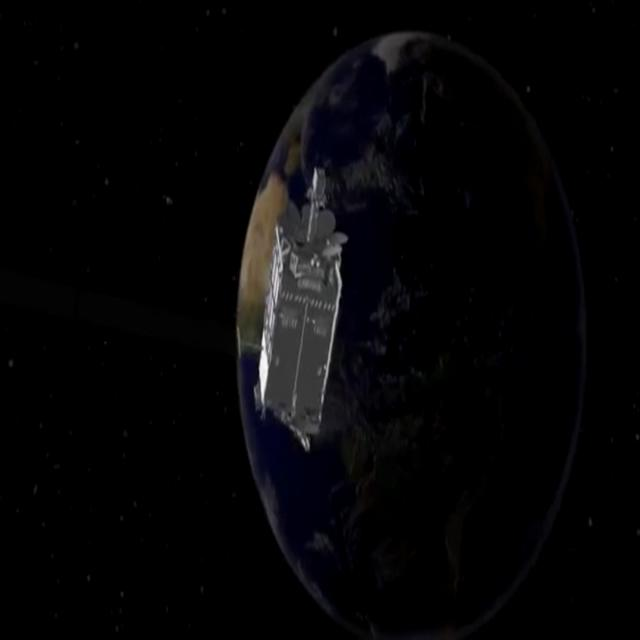medium_debris: (241, 148, 357, 475)
